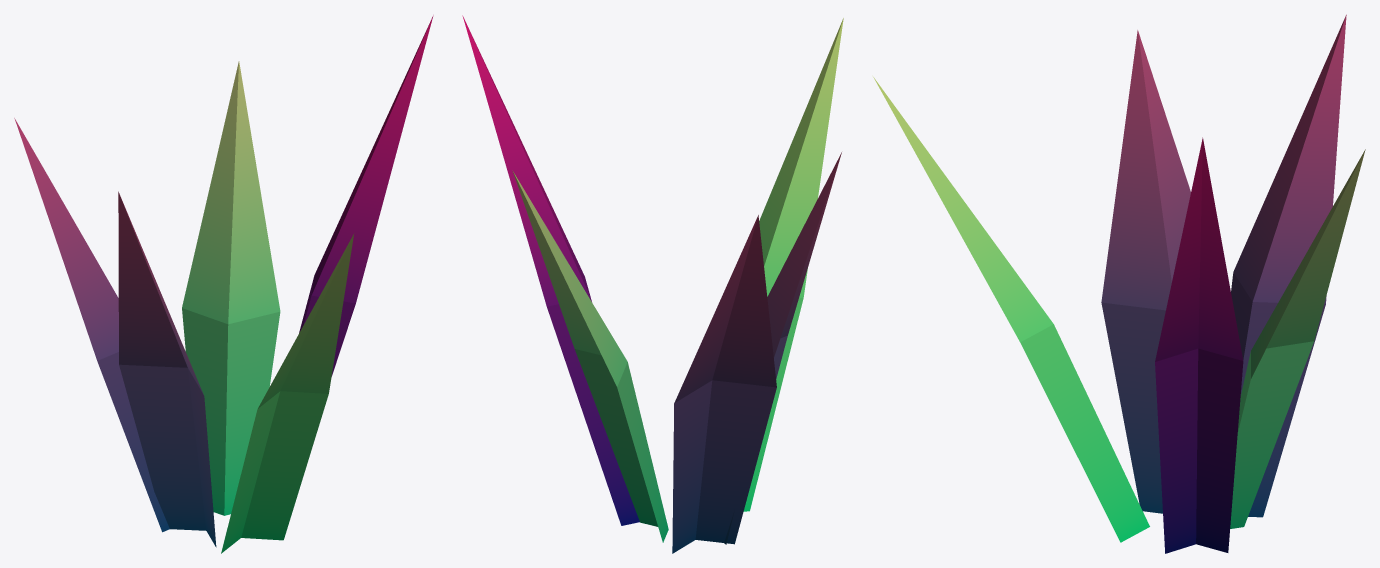
File: grass_clump1_v2.fbx
3 renders of one model, left to right at view 1: azimuth 30°, elevation 25°; view 2: azimuth 150°, elevation 25°; view 3: azimuth 270°, elevation 25°, orthographic. The views are drawn at different scales.
Visible parts, largest first — view 1: grass_clump1_v2; view 2: grass_clump1_v2; view 3: grass_clump1_v2.
Boxes of the visible parts, box(x1,y1,x2,y2) form: grass_clump1_v2: box(14, 15, 433, 553); grass_clump1_v2: box(462, 15, 843, 553); grass_clump1_v2: box(873, 14, 1365, 553).
Bounding box in the file's own units: 43.96 × 53.64 × 47.25.
